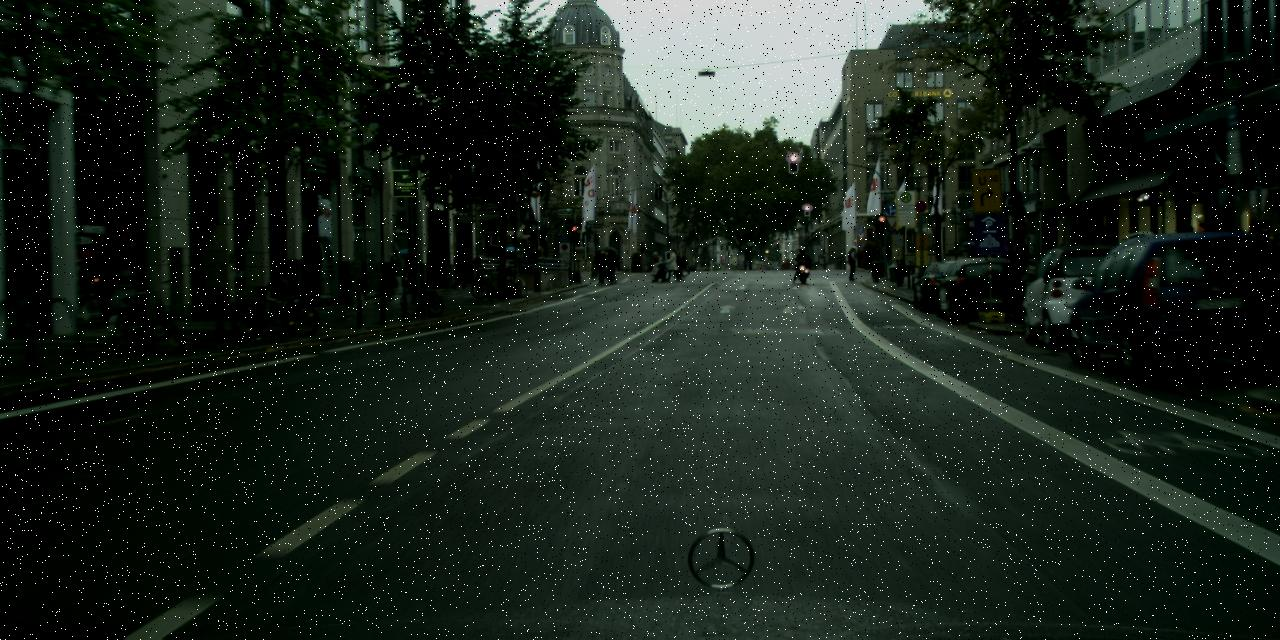ped: (180, 252, 208, 320), (594, 245, 620, 286), (663, 247, 691, 282), (452, 253, 467, 288), (470, 252, 495, 272), (845, 245, 859, 280), (794, 246, 807, 280), (999, 238, 1013, 261), (1025, 238, 1030, 272), (505, 252, 517, 257)
